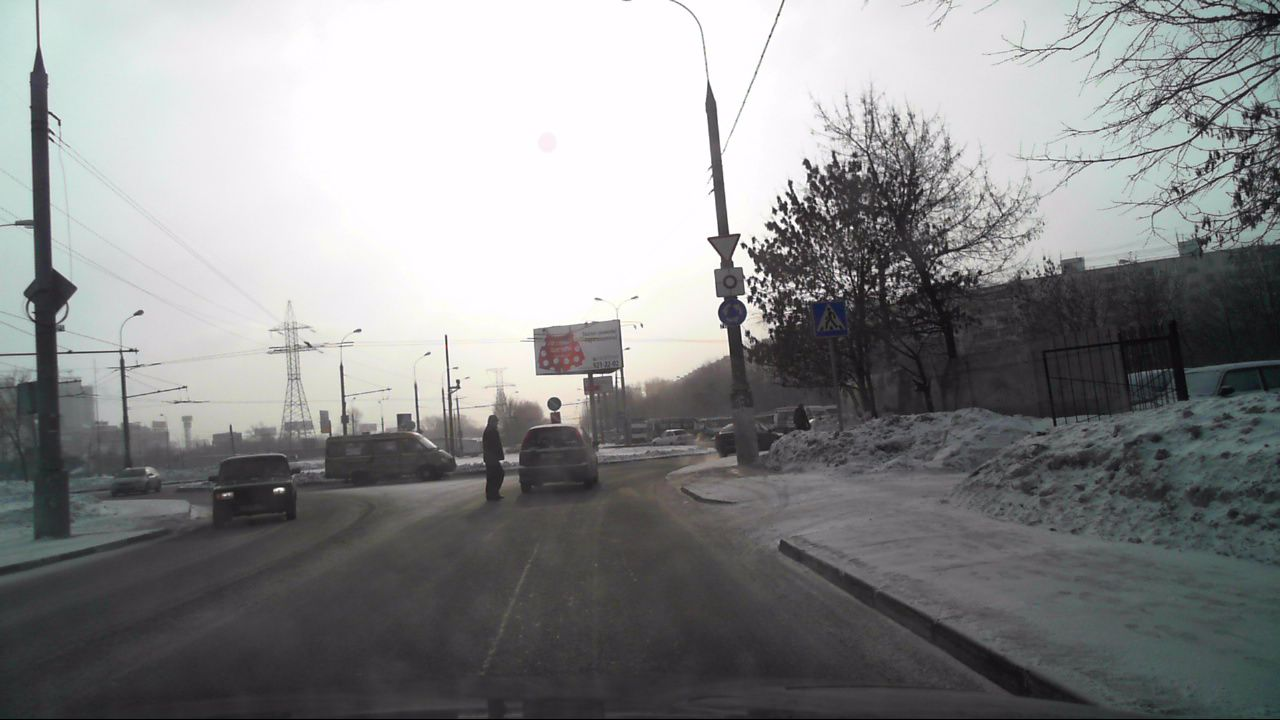Round-About: (717, 300, 747, 327)
